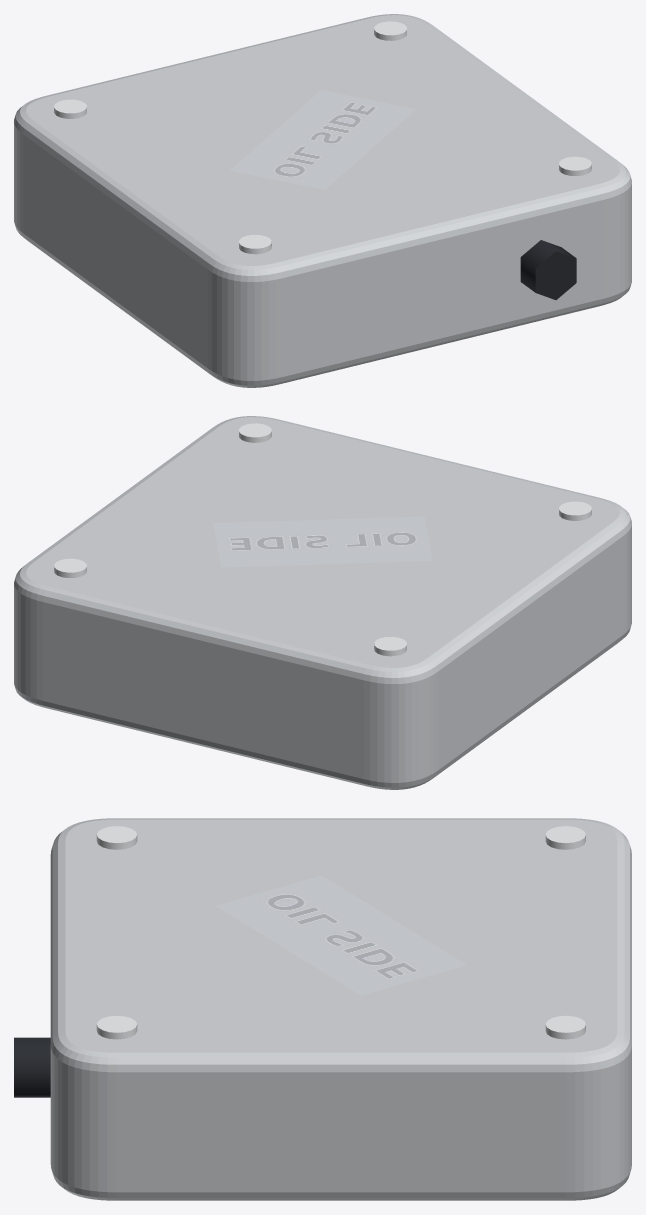
File: mag-box.glb
3 views of the same model, one above another, from view 1: azimuth 30°, elevation 25°; view 2: azimuth 150°, elevation 25°; view 3: azimuth 270°, elevation 25° (orthographic). The views are drawn at different scales.
Parts seen in each view (by area): view 1: MSD; view 2: MSD; view 3: MSD.
Part boxes in pixels (x1,y1,x2,y2): MSD: (14,14,631,387); MSD: (14,416,631,789); MSD: (14,818,631,1200).
Bounding box in the file's own units: 0.158 × 0.046 × 0.168.
7 materials, 1 textured.
